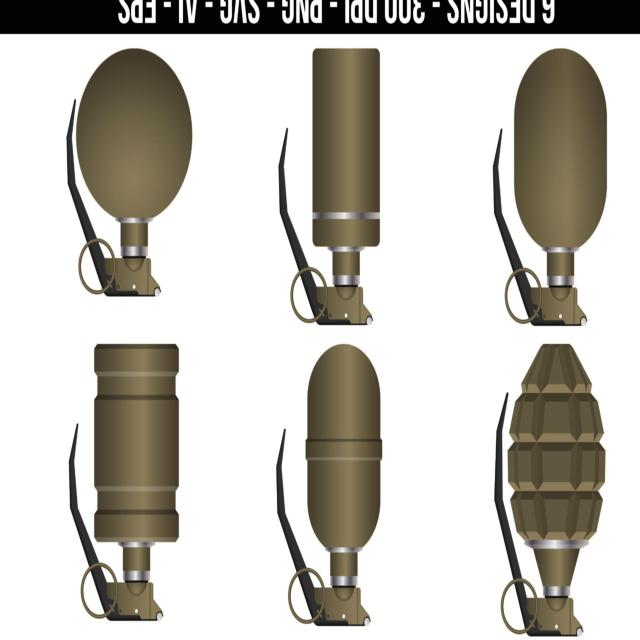grenade: (497, 343, 607, 639), (494, 50, 609, 328), (70, 347, 181, 627), (69, 49, 192, 300), (278, 345, 384, 629), (280, 50, 382, 328)
